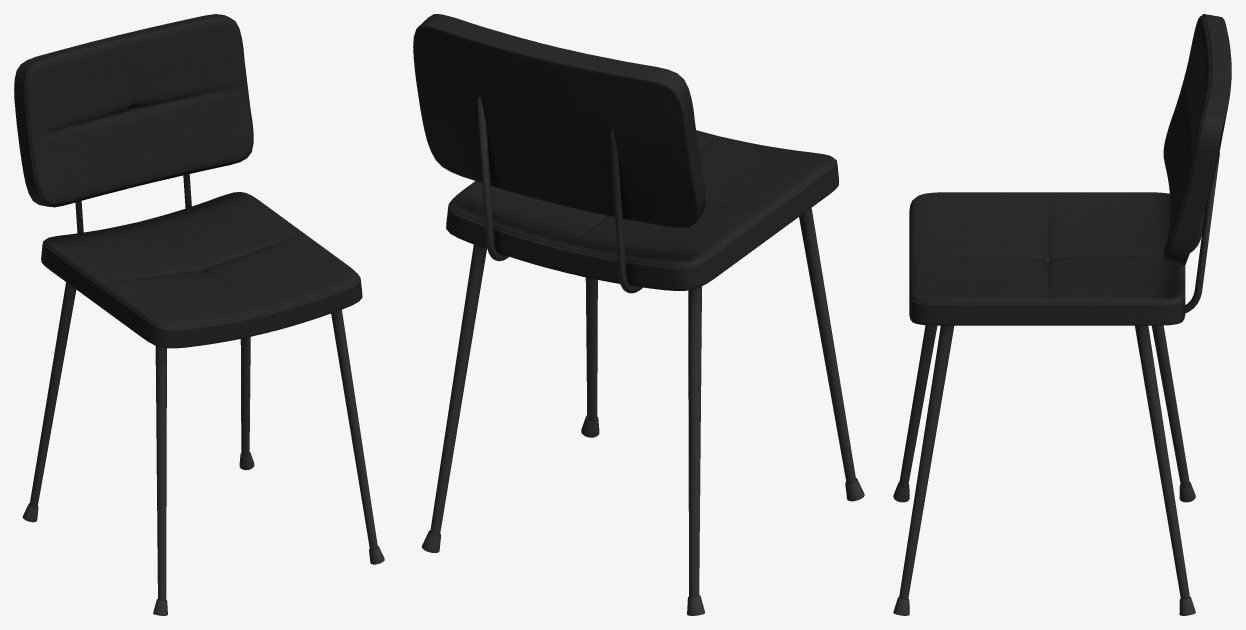
The model's file is gerlin_za.glb.
3 views of the same model, side by side, from view 1: azimuth 30°, elevation 25°; view 2: azimuth 150°, elevation 25°; view 3: azimuth 270°, elevation 25° (orthographic). The views are drawn at different scales.
Parts seen in each view (by area): view 1: gerlin_za_Black_part2, gerlin_za_Black_part1; view 2: gerlin_za_Black_part2, gerlin_za_Black_part1; view 3: gerlin_za_Black_part2, gerlin_za_Black_part1.
Part boxes in pixels (left/top/right/bottom): gerlin_za_Black_part2: left=14, top=14, right=362, bottom=348; gerlin_za_Black_part1: left=22, top=174, right=384, bottom=615; gerlin_za_Black_part2: left=413, top=14, right=838, bottom=290; gerlin_za_Black_part1: left=422, top=96, right=864, bottom=615; gerlin_za_Black_part2: left=909, top=14, right=1231, bottom=325; gerlin_za_Black_part1: left=893, top=152, right=1219, bottom=615.
Bounding box in the file's own units: 0.4327 × 0.8078 × 0.5031.
2 materials, 2 textured.
